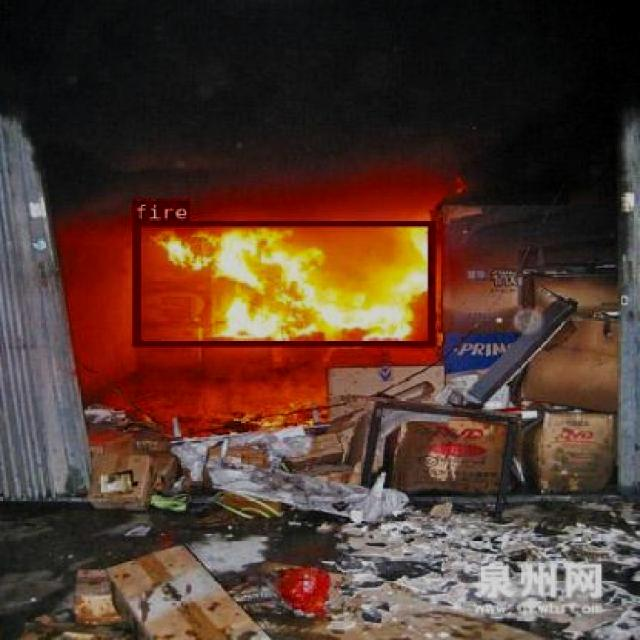fire: (131, 219, 434, 344)
